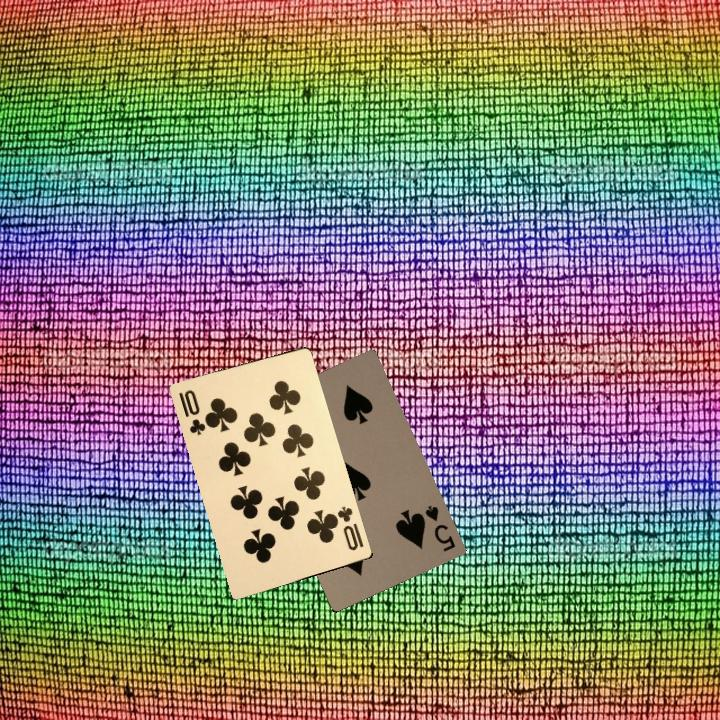10c: (174, 386, 210, 437), (333, 502, 366, 553)
5s: (421, 501, 458, 554)
